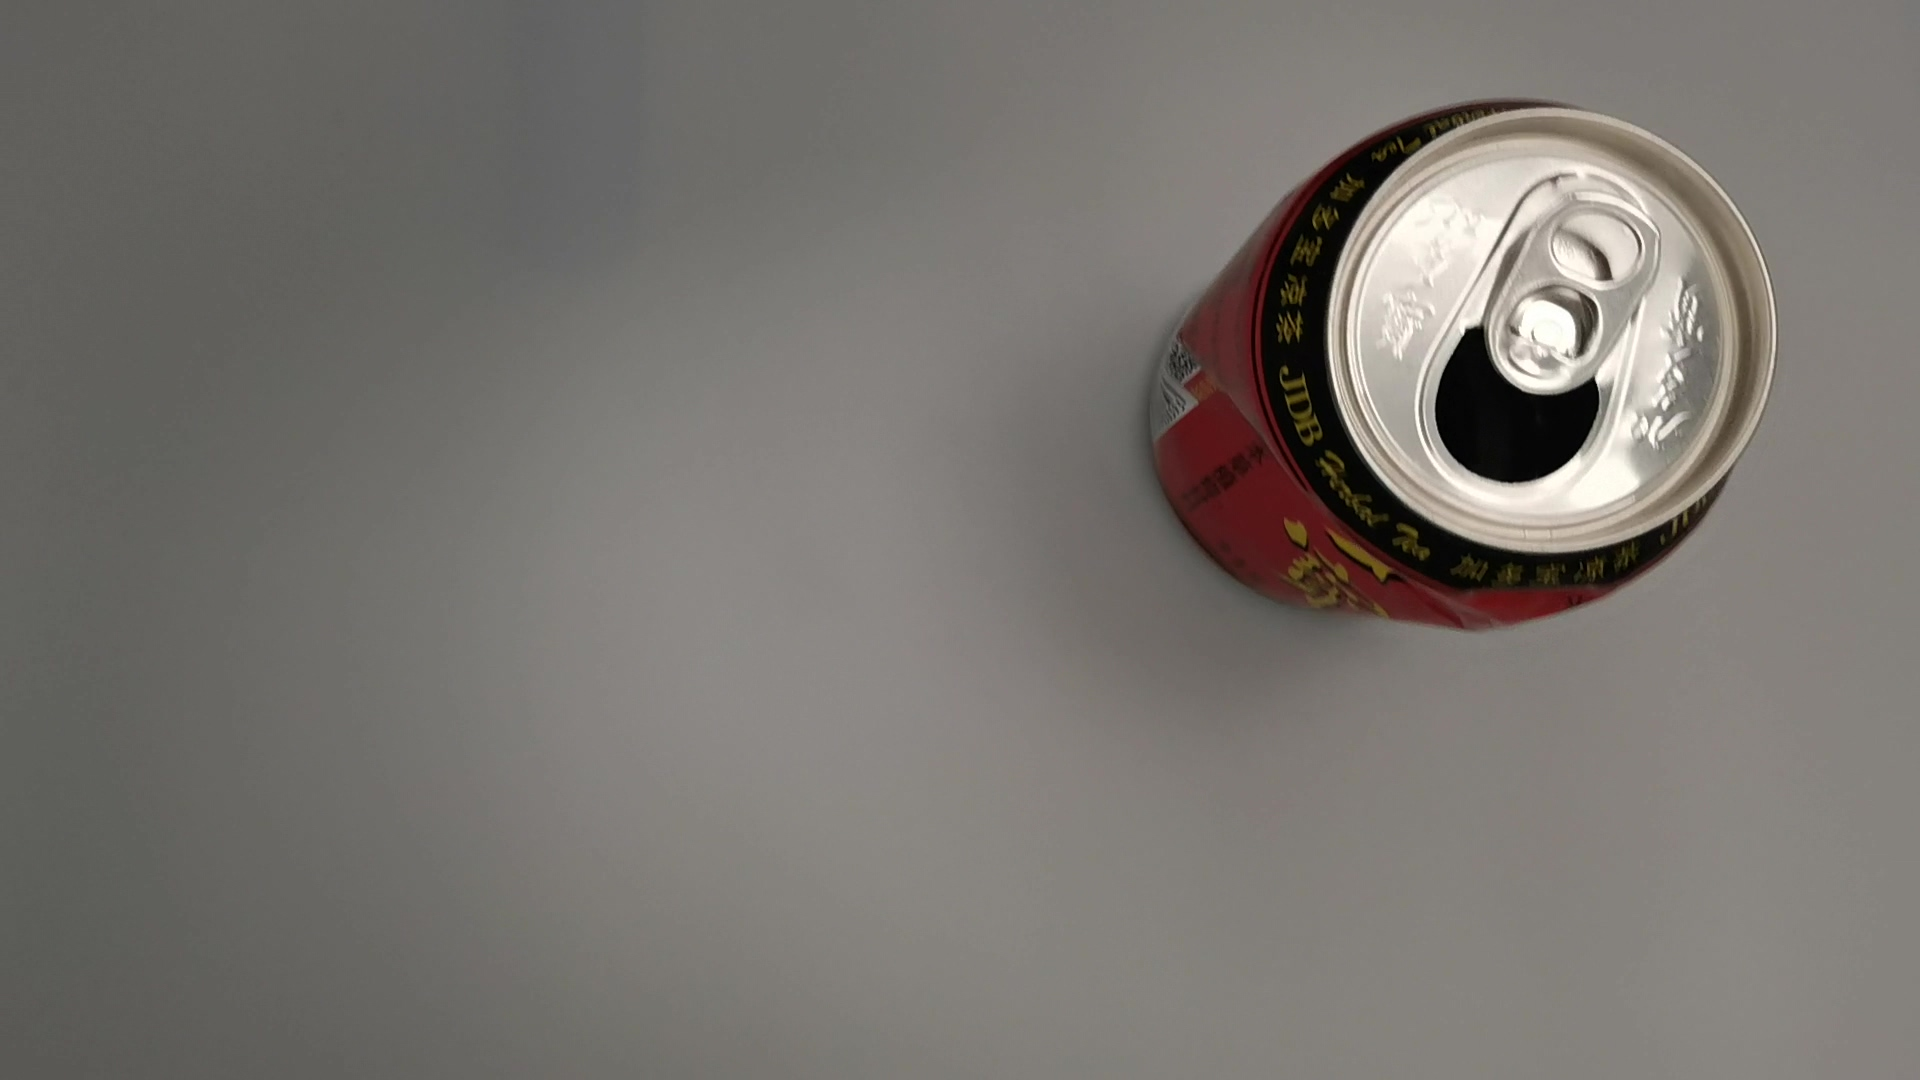can: (1143, 84, 1780, 642)
